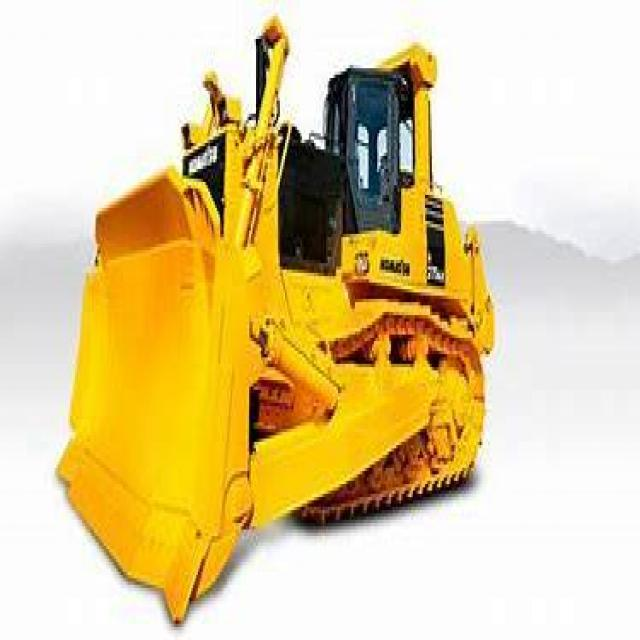Bulldozer: (53, 7, 493, 630)
